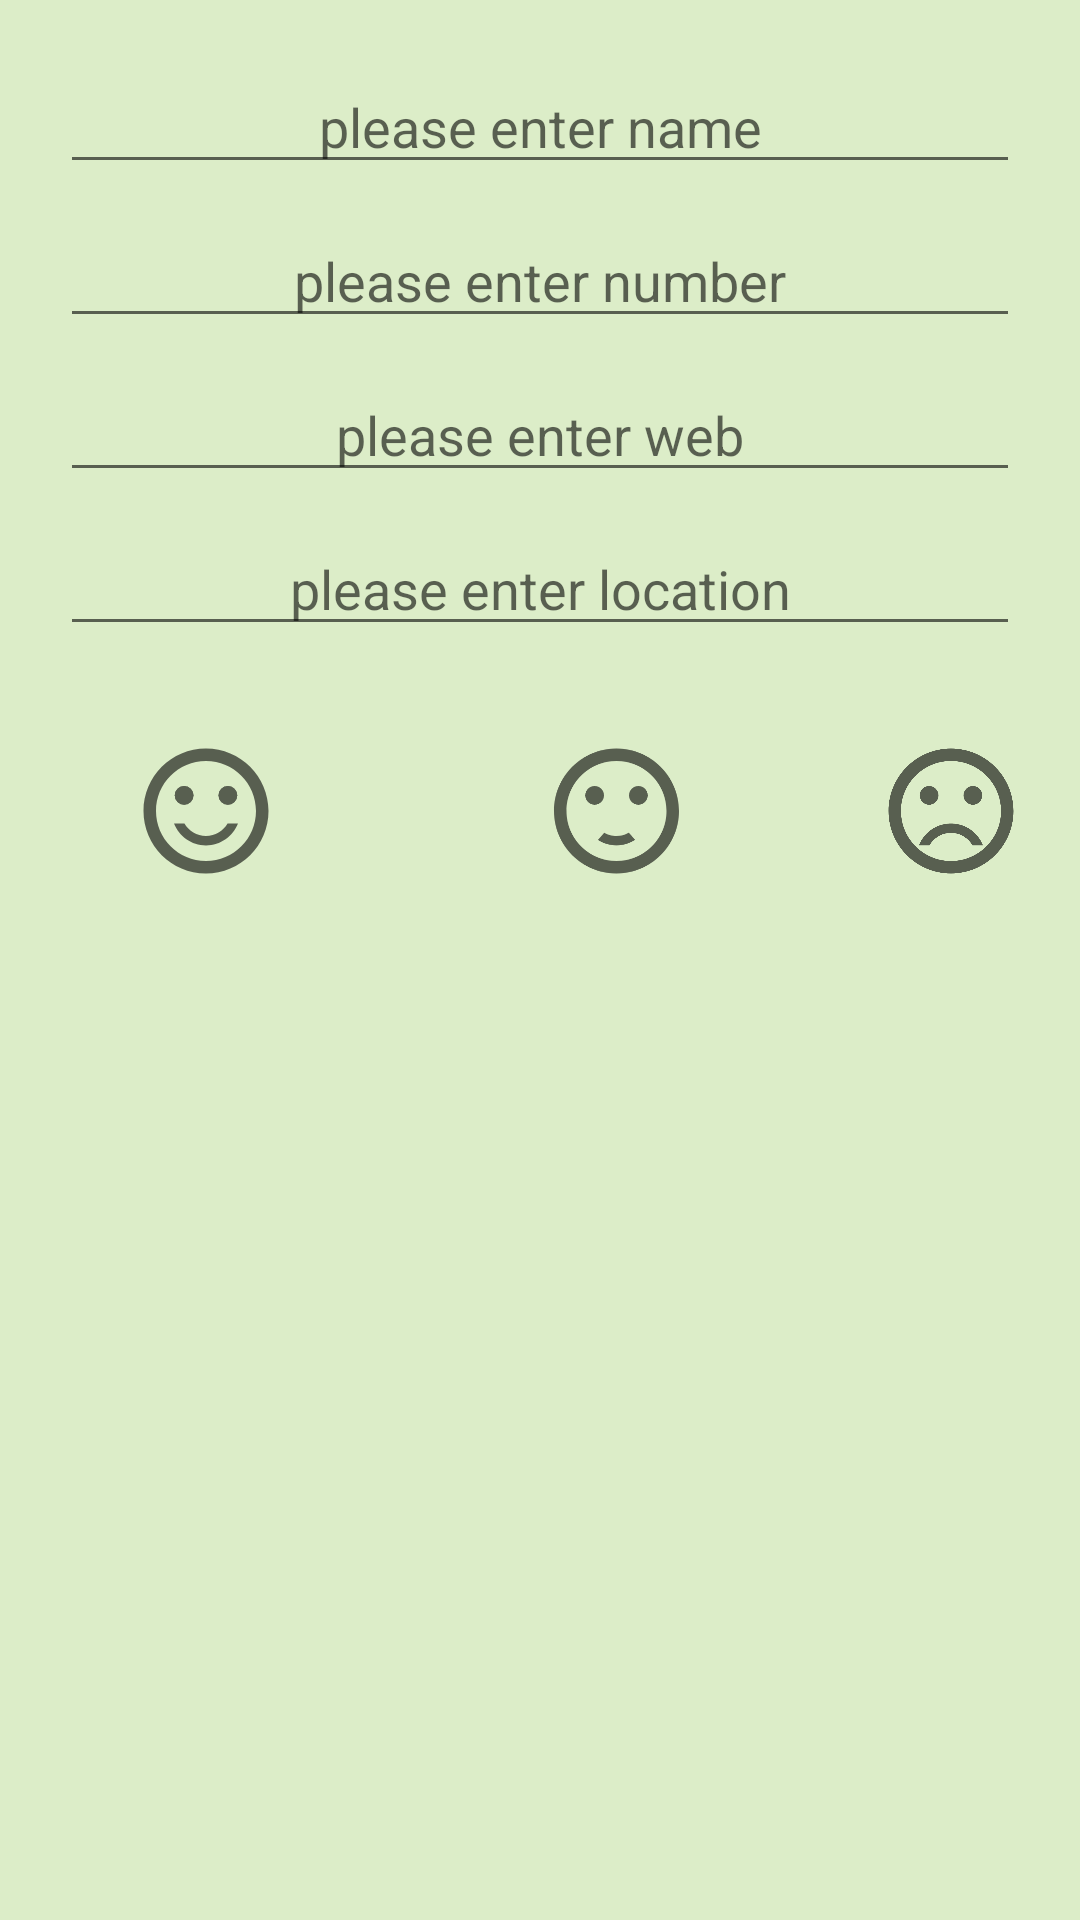

Locate icon controls on the screen. Image size 1080×1920, boxes as [x1,y1,x2,y2].
happy: [143,748,269,874]
sad: [888,748,1014,874]
